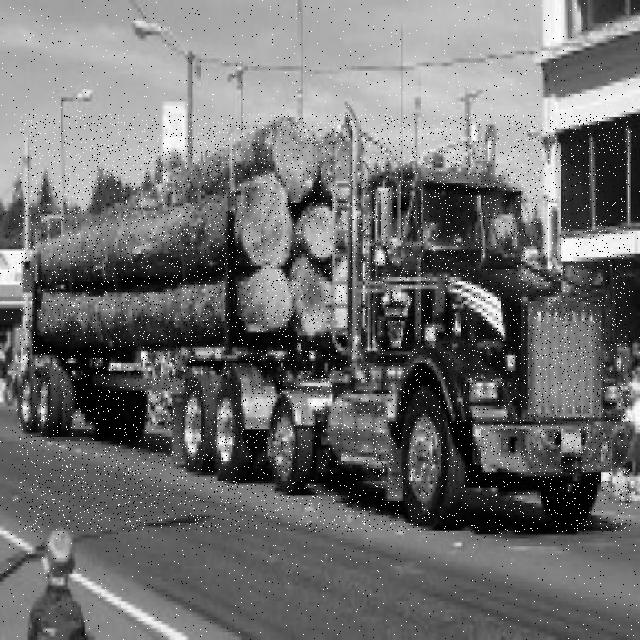Box Truck: (19, 114, 631, 532)
